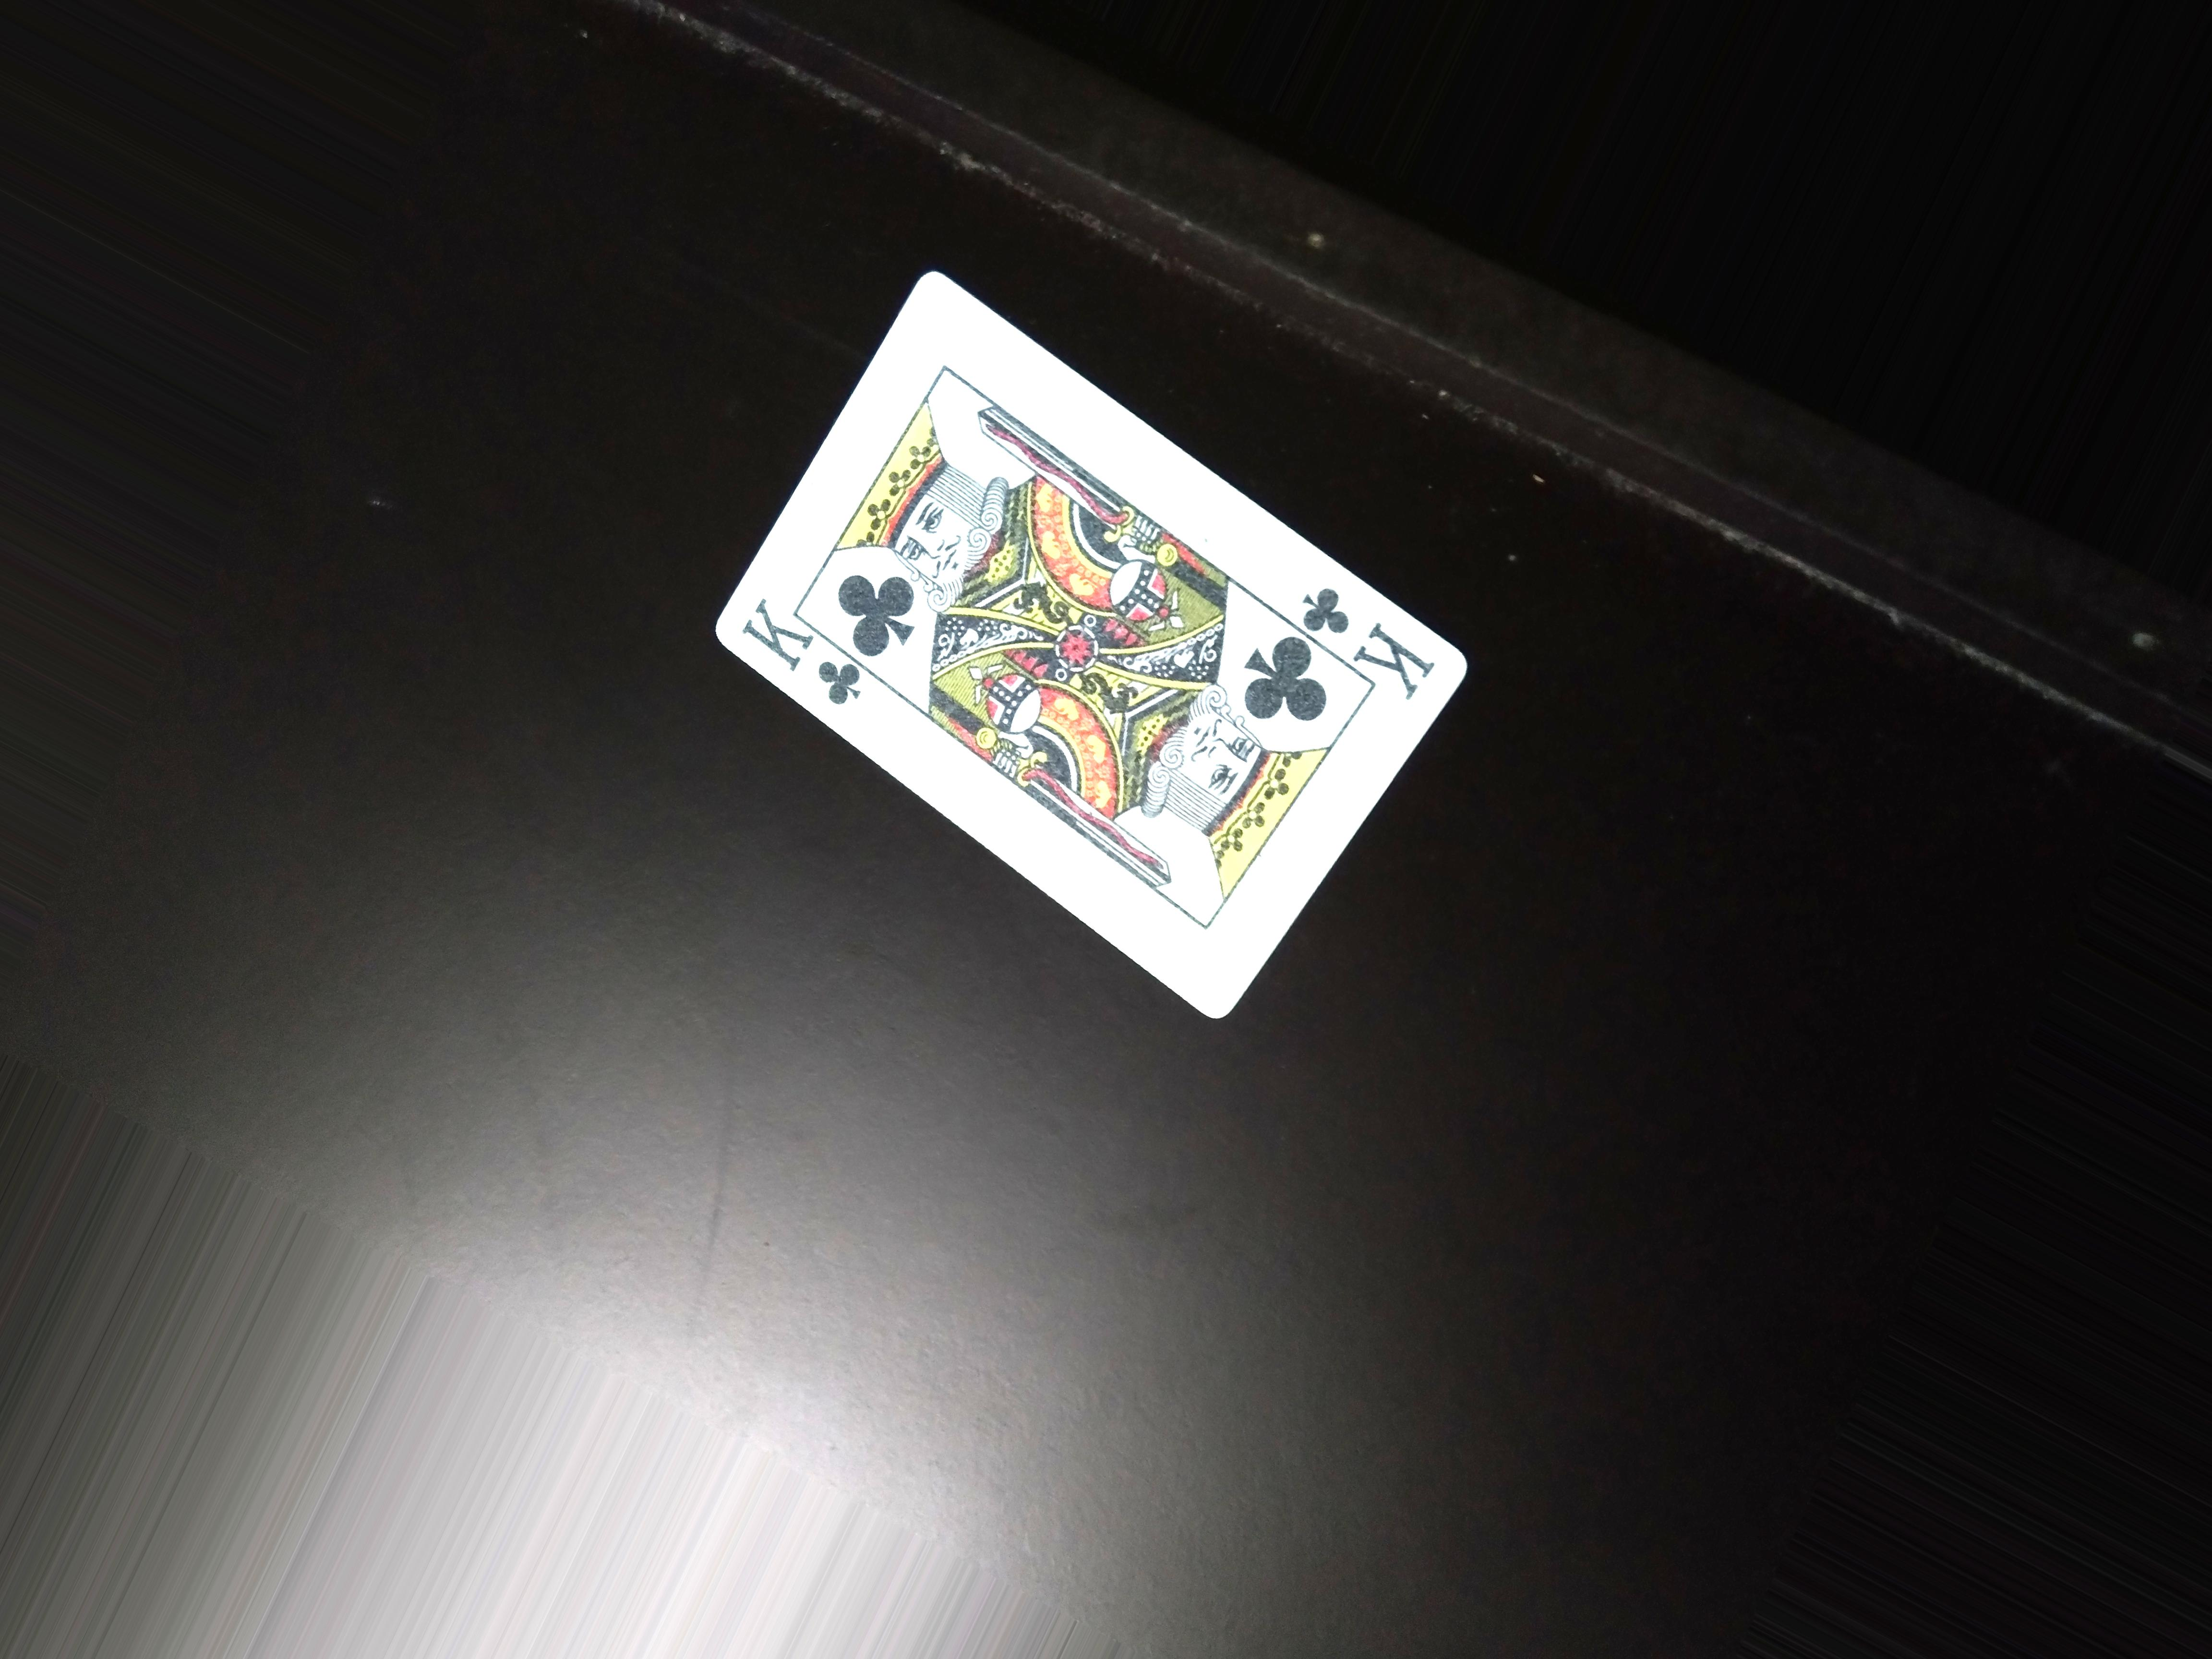KC: (742, 599, 866, 704)
